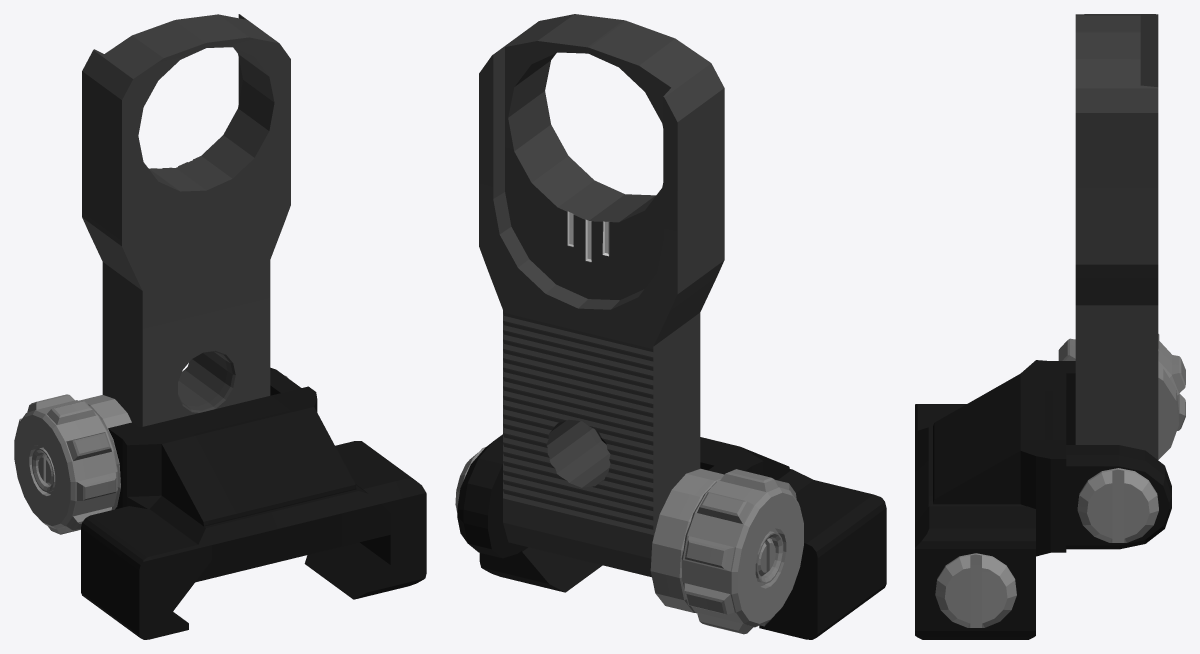
The model's file is Front Sight 1.fbx.
The picture shows the model from 3 angles, left to right: view 1: azimuth 30°, elevation 25°; view 2: azimuth 150°, elevation 25°; view 3: azimuth 270°, elevation 25°; orthographic projection. The views are drawn at different scales.
Visible parts, largest first — view 1: Front Sight 1 Holder, Front Sight 1; view 2: Front Sight 1, Front Sight 1 Holder; view 3: Front Sight 1 Holder, Front Sight 1.
Part boxes in pixels (x1,y1,x2,y2): Front Sight 1 Holder: [14, 367, 426, 639]; Front Sight 1: [82, 14, 290, 427]; Front Sight 1: [479, 14, 724, 577]; Front Sight 1 Holder: [455, 430, 886, 639]; Front Sight 1 Holder: [915, 334, 1185, 639]; Front Sight 1: [1075, 14, 1158, 459].
Size of the model in its own units: 6.52 by 10.92 by 4.95.
